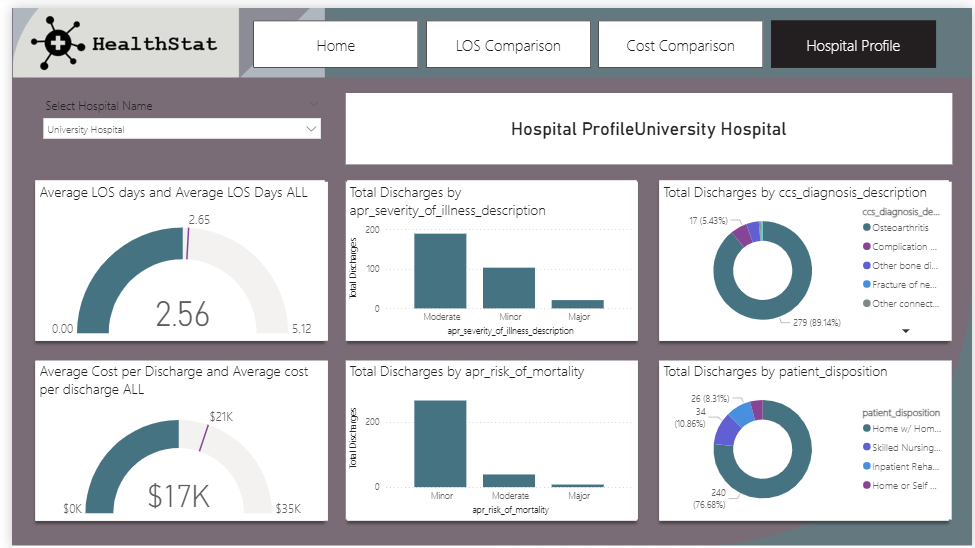

The page's visual inventory and layout, read from the dashboard file:
{"tool":"powerbi","page":{"name":"Hospital Profile","canvas":[1280,720],"ordinal":3},"visuals":[{"type":"gauge","fields":{"Y":["_Measures.Average LOS days"],"TargetValue":["_Measures.Average LOS Days ALL"]},"box":[31,231,389.7,212.1],"z":0},{"type":"gauge","fields":{"Y":["_Measures.Average Cost per Discharge"],"TargetValue":["_Measures.Average cost per discharge ALL"]},"box":[31,470.7,389.7,213.8],"z":1},{"type":"clusteredColumnChart","fields":{"Y":["_Measures.Total Discharges"],"Category":["hospital_discharges.apr_severity_of_illness_description"]},"box":[444.8,231,389.7,212.1],"z":2},{"type":"clusteredColumnChart","fields":{"Y":["_Measures.Total Discharges"],"Category":["hospital_discharges.apr_risk_of_mortality"]},"box":[444.8,470.7,389.7,212.1],"z":3},{"type":"donutChart","fields":{"Y":["_Measures.Total Discharges"],"Category":["hospital_discharges.ccs_diagnosis_description"]},"box":[863.8,231,389.7,212.1],"z":4},{"type":"donutChart","fields":{"Y":["_Measures.Total Discharges"],"Category":["hospital_discharges.patient_disposition"]},"box":[863.8,470.7,389.7,212.1],"z":5},{"type":"slicer","fields":{"Values":["hospital_discharges.facility_name"]},"box":[31,113.8,389.7,94.8],"z":6},{"type":"card","fields":{"Values":["_Measures.Title Selected Facility"]},"box":[444.8,113.8,808.6,94.8],"z":7},{"type":"pageNavigator","box":[322.4,17.2,913.8,63.8],"z":8}]}

Visuals, with their boxes in screenshot pixels (x1, y1, x2, y2), scaled from the page's 1280x720 canvas onto the 975x548 screenshot:
gauge - _Measures.Average LOS days x _Measures.Average LOS Days ALL: (x1=24, y1=176, x2=320, y2=337)
gauge - _Measures.Average Cost per Discharge x _Measures.Average cost per discharge ALL: (x1=24, y1=358, x2=320, y2=521)
clusteredColumnChart - _Measures.Total Discharges x hospital_discharges.apr_severity_of_illness_description: (x1=339, y1=176, x2=636, y2=337)
clusteredColumnChart - _Measures.Total Discharges x hospital_discharges.apr_risk_of_mortality: (x1=339, y1=358, x2=636, y2=520)
donutChart - _Measures.Total Discharges x hospital_discharges.ccs_diagnosis_description: (x1=658, y1=176, x2=955, y2=337)
donutChart - _Measures.Total Discharges x hospital_discharges.patient_disposition: (x1=658, y1=358, x2=955, y2=520)
slicer - hospital_discharges.facility_name: (x1=24, y1=87, x2=320, y2=159)
card - _Measures.Title Selected Facility: (x1=339, y1=87, x2=955, y2=159)
pageNavigator: (x1=246, y1=13, x2=942, y2=62)
